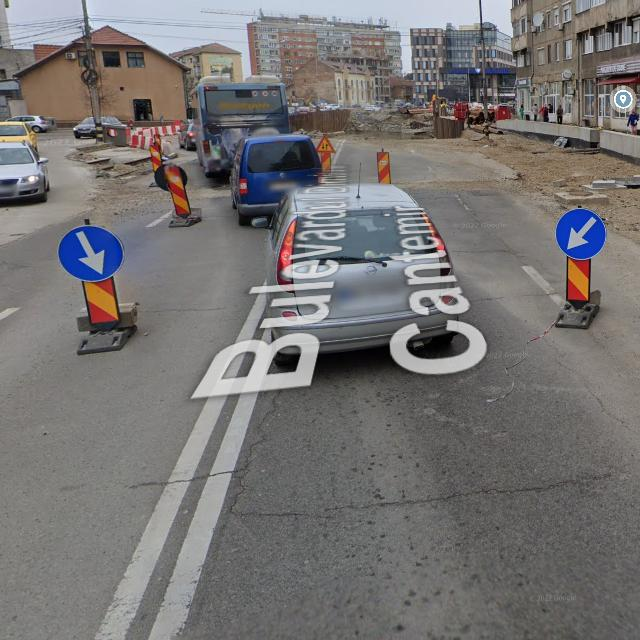mand_pass_left: (556, 208, 606, 260)
mand_pass_right: (56, 225, 125, 282)
warn_two_way_traffic: (316, 134, 336, 154)
